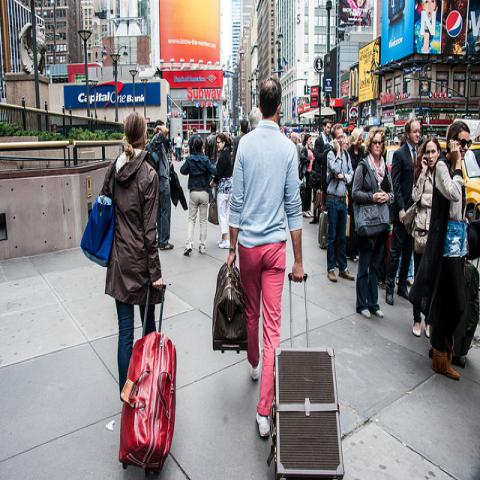car: (439, 137, 480, 220), (384, 146, 400, 176), (311, 137, 318, 148)
